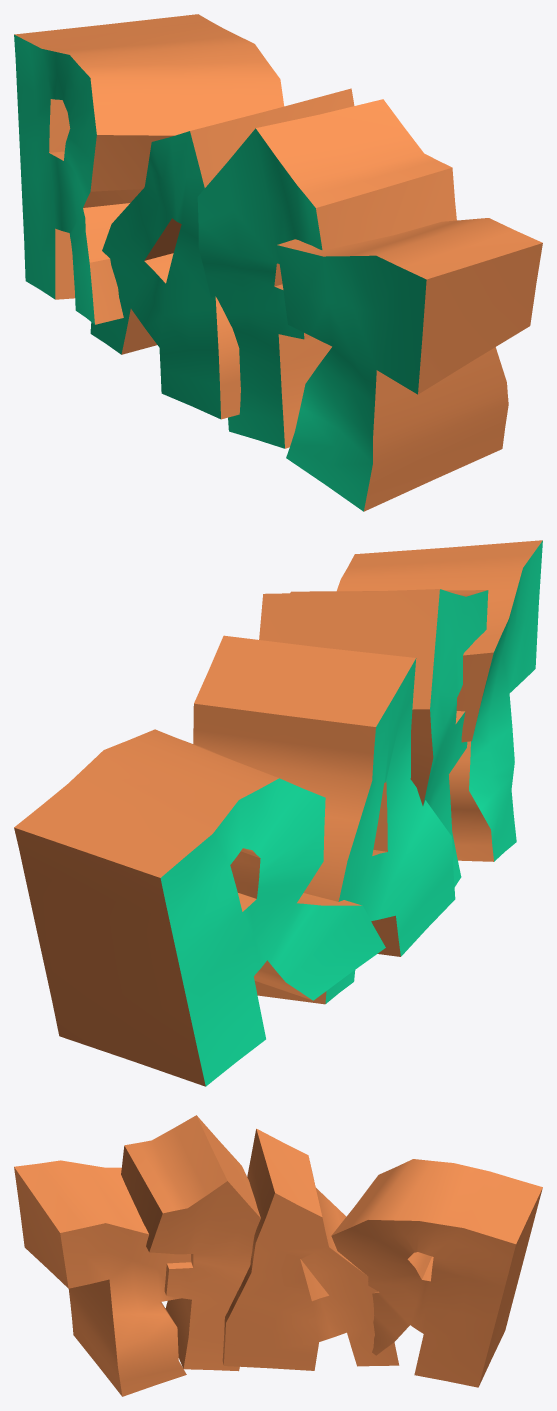
Rendered from RaftTitle.fbx.
3 renders of one model, top to bottom at view 1: azimuth 30°, elevation 25°; view 2: azimuth 150°, elevation 25°; view 3: azimuth 270°, elevation 25°, orthographic. The views are drawn at different scales.
Visible parts, largest first — view 1: Plane.008; view 2: Plane.008; view 3: Plane.008.
Part boxes in pixels (bbox=[...]): Plane.008: bbox=[14, 14, 542, 511]; Plane.008: bbox=[14, 540, 542, 1086]; Plane.008: bbox=[14, 1115, 542, 1396].
Bounding box in the file's own units: 173 × 218 × 476.
